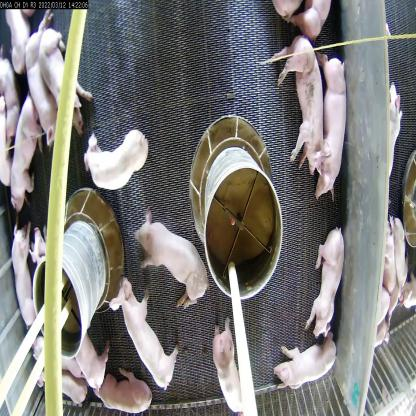Pig: (258, 36, 329, 182), (108, 276, 187, 396), (132, 204, 216, 313), (35, 21, 103, 145), (311, 50, 359, 209), (78, 126, 155, 200), (23, 7, 61, 152), (302, 227, 348, 346), (7, 88, 48, 215), (8, 223, 48, 345), (207, 311, 253, 416), (31, 341, 95, 408), (270, 338, 342, 393), (89, 364, 156, 415), (378, 71, 405, 191), (382, 217, 410, 315), (78, 331, 110, 391), (290, 0, 334, 42)
